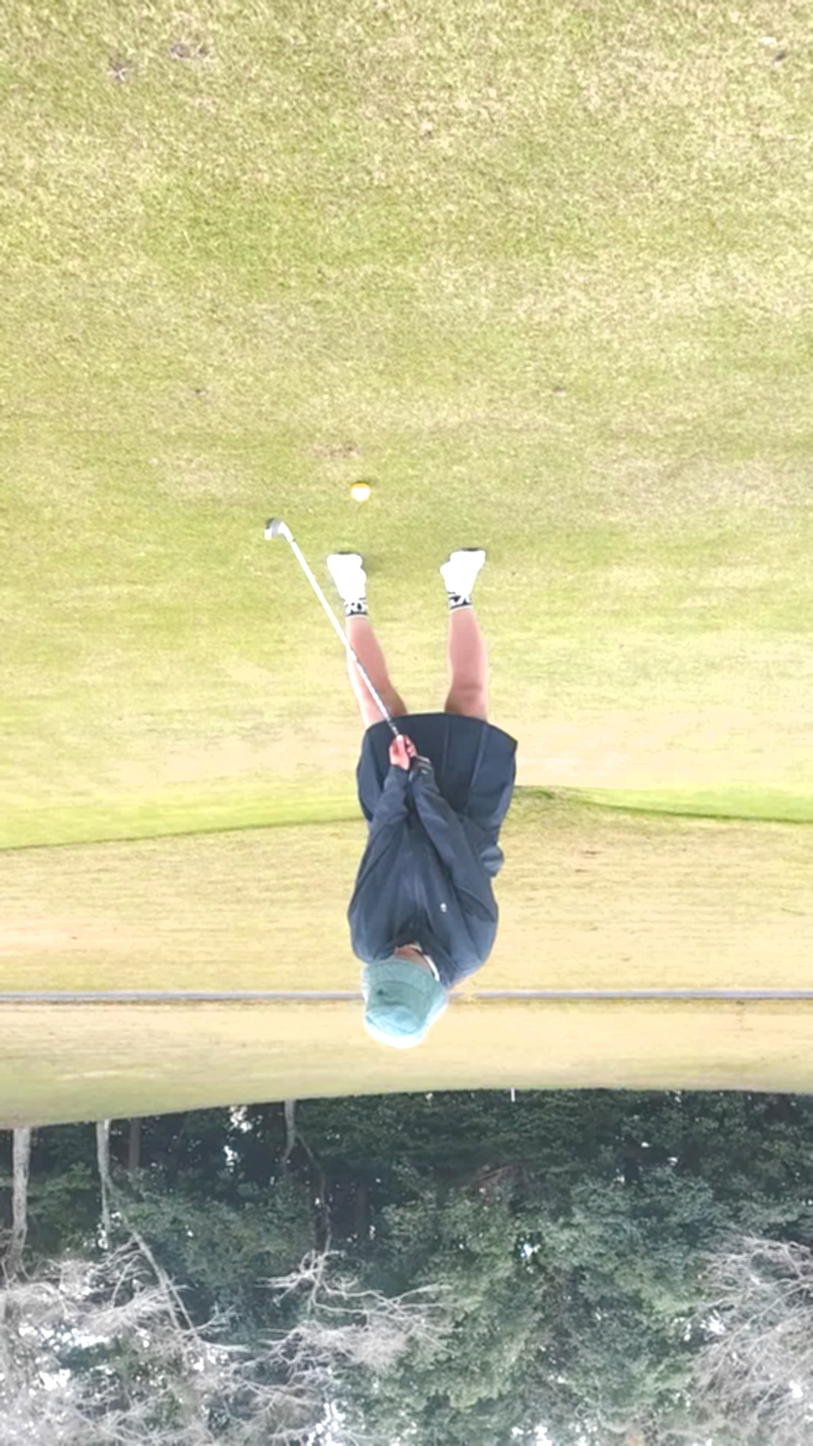clubhead: (174, 473, 416, 577)
